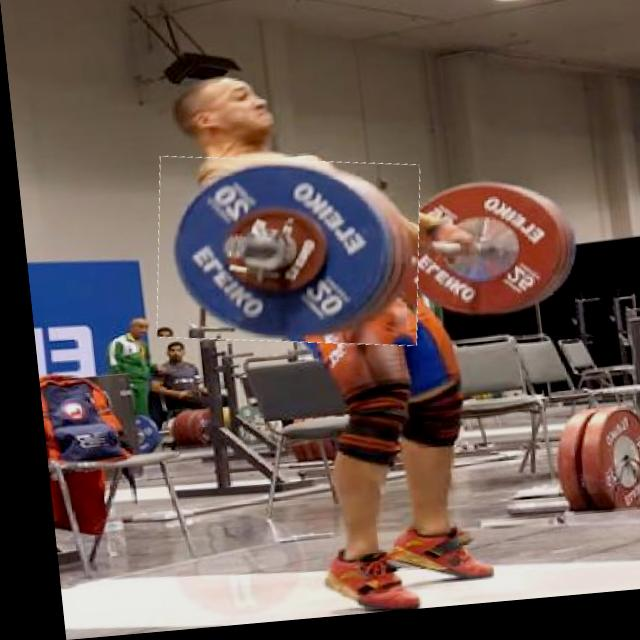barbell: (141, 150, 425, 364)
